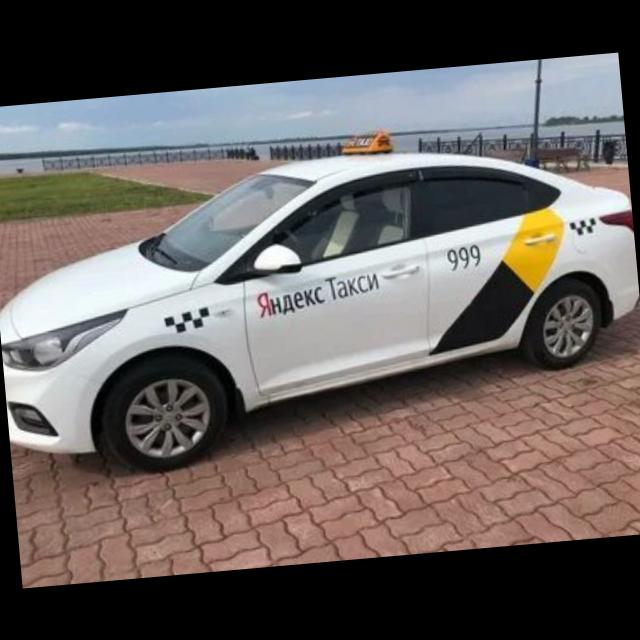taxi: (1, 126, 640, 484)
